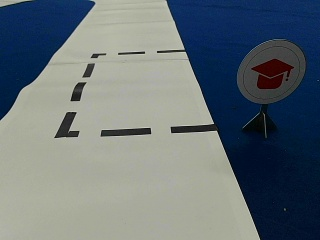school: (237, 40, 305, 102)
